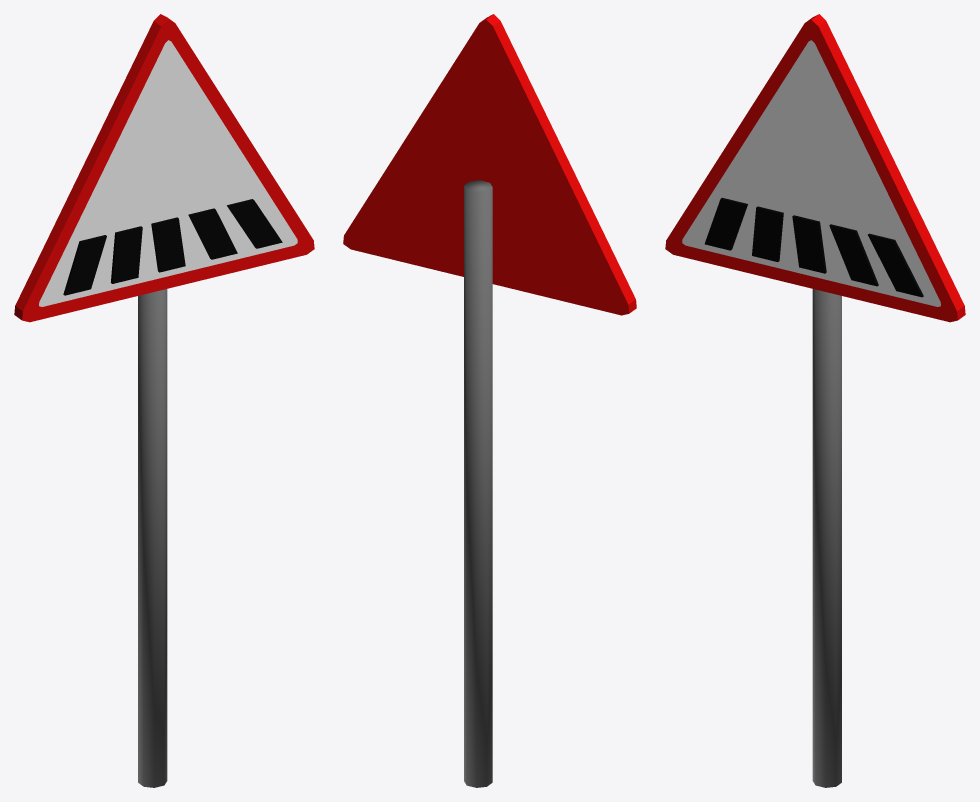
File: Prop_StreetSign_Footpath_01.fbx
3 views of the same model, side by side, from view 1: azimuth 30°, elevation 25°; view 2: azimuth 150°, elevation 25°; view 3: azimuth 330°, elevation 25° (orthographic). The views are drawn at different scales.
Visible parts, largest first — view 1: Prop_StreetSign_Footpath_01; view 2: Prop_StreetSign_Footpath_01; view 3: Prop_StreetSign_Footpath_01.
Part boxes in pixels (<box>): Prop_StreetSign_Footpath_01: <box>14,14,314,787</box>; Prop_StreetSign_Footpath_01: <box>343,14,636,787</box>; Prop_StreetSign_Footpath_01: <box>665,14,965,787</box>.
Size of the model in its own units: 166 by 420 by 24.1.
